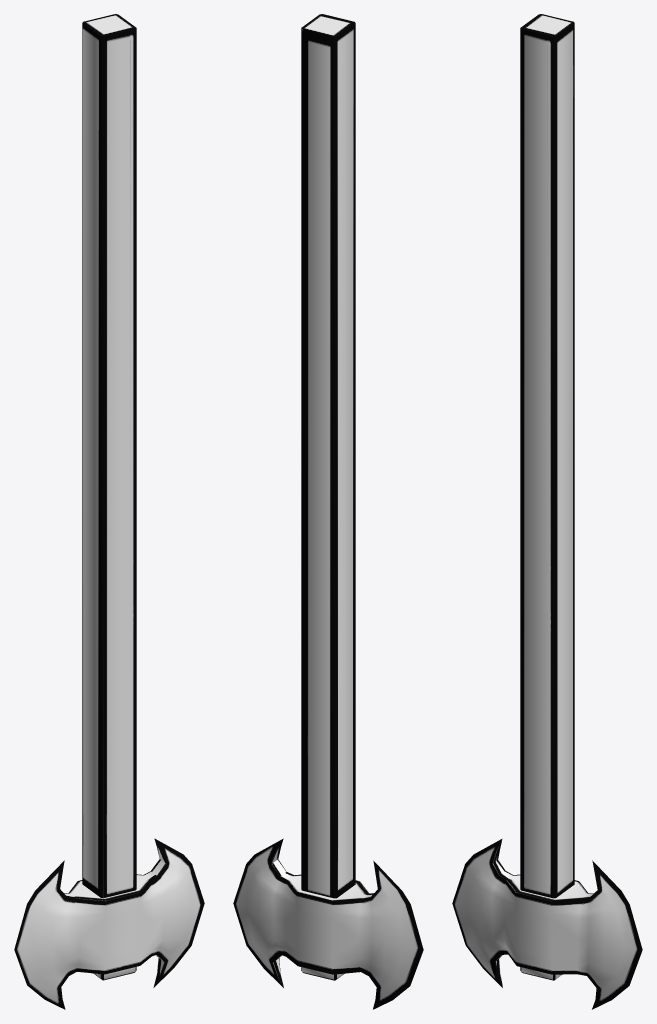
The model's file is SwingAxe.FBX.
3 renders of one model, left to right at view 1: azimuth 30°, elevation 25°; view 2: azimuth 150°, elevation 25°; view 3: azimuth 330°, elevation 25°, orthographic.
Parts seen in each view (by area): view 1: Box001; view 2: Box001; view 3: Box001.
Boxes of the visible parts, x1=… form: Box001: x1=14, y1=14, x2=204, y2=1009; Box001: x1=233, y1=14, x2=423, y2=1009; Box001: x1=452, y1=14, x2=642, y2=1009.
Size of the model in its own units: 106 by 520 by 26.69.
